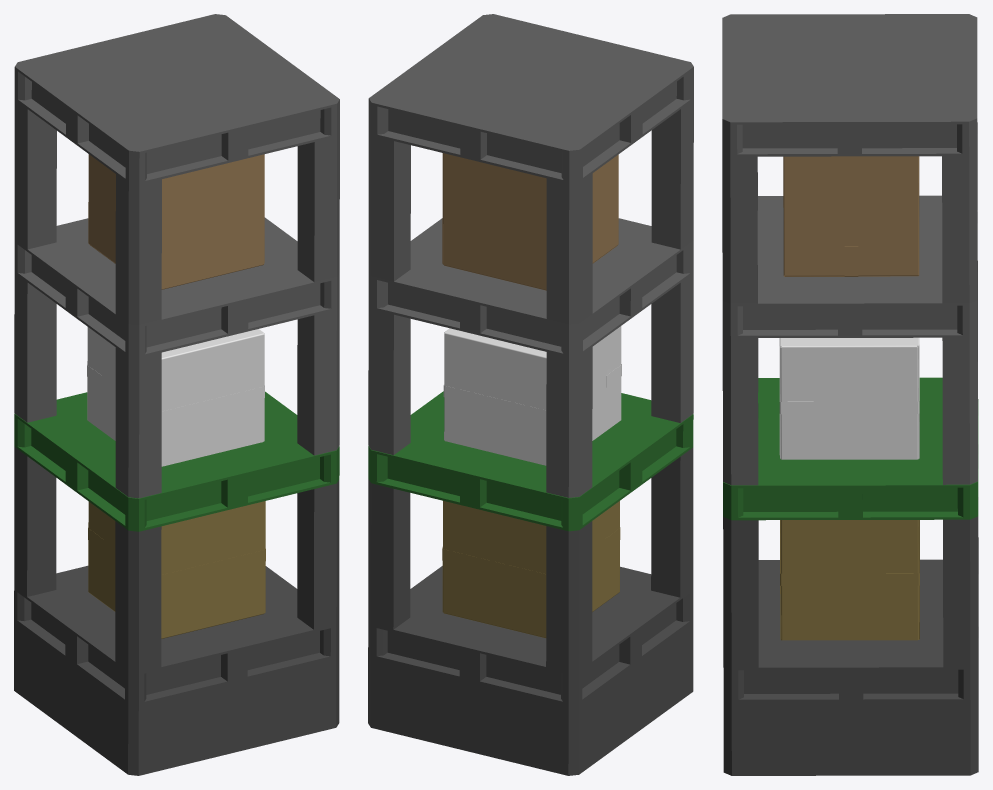
Rendered from three_palette_big_new.dae.
The picture shows the model from 3 angles, left to right: view 1: azimuth 30°, elevation 25°; view 2: azimuth 150°, elevation 25°; view 3: azimuth 270°, elevation 25°; orthographic projection. The views are drawn at different scales.
Parts seen in each view (by area): view 1: 본체1, 본체1:7, 본체1:6, 본체1:2, 본체1:4, 본체1:1, 본체1:5; view 2: 본체1, 본체1:7, 본체1:6, 본체1:2, 본체1:4, 본체1:1, 본체1:5; view 3: 본체1:7, 본체1, 본체1:6, 본체1:2, 본체1:4, 본체1:1, 본체1:5.
Part boxes in pixels (x1=…): 본체1: x1=14, y1=447, x2=339, y2=775; 본체1:7: x1=14, y1=14, x2=339, y2=324; 본체1:6: x1=14, y1=217, x2=339, y2=498; 본체1:2: x1=14, y1=391, x2=339, y2=531; 본체1:4: x1=87, y1=327, x2=264, y2=466; 본체1:1: x1=88, y1=501, x2=265, y2=638; 본체1:5: x1=88, y1=154, x2=264, y2=289; 본체1: x1=368, y1=447, x2=693, y2=775; 본체1:7: x1=368, y1=14, x2=693, y2=324; 본체1:6: x1=368, y1=218, x2=693, y2=497; 본체1:2: x1=368, y1=391, x2=693, y2=531; 본체1:4: x1=443, y1=326, x2=621, y2=465; 본체1:1: x1=442, y1=501, x2=620, y2=638; 본체1:5: x1=442, y1=153, x2=618, y2=290; 본체1:7: x1=722, y1=14, x2=977, y2=303; 본체1: x1=723, y1=516, x2=978, y2=775; 본체1:6: x1=722, y1=195, x2=977, y2=485; 본체1:2: x1=723, y1=377, x2=978, y2=520; 본체1:4: x1=779, y1=337, x2=919, y2=459; 본체1:1: x1=780, y1=520, x2=919, y2=640; 본체1:5: x1=783, y1=156, x2=919, y2=276.
Size of the model in its own units: 94 by 94.58 by 266.
